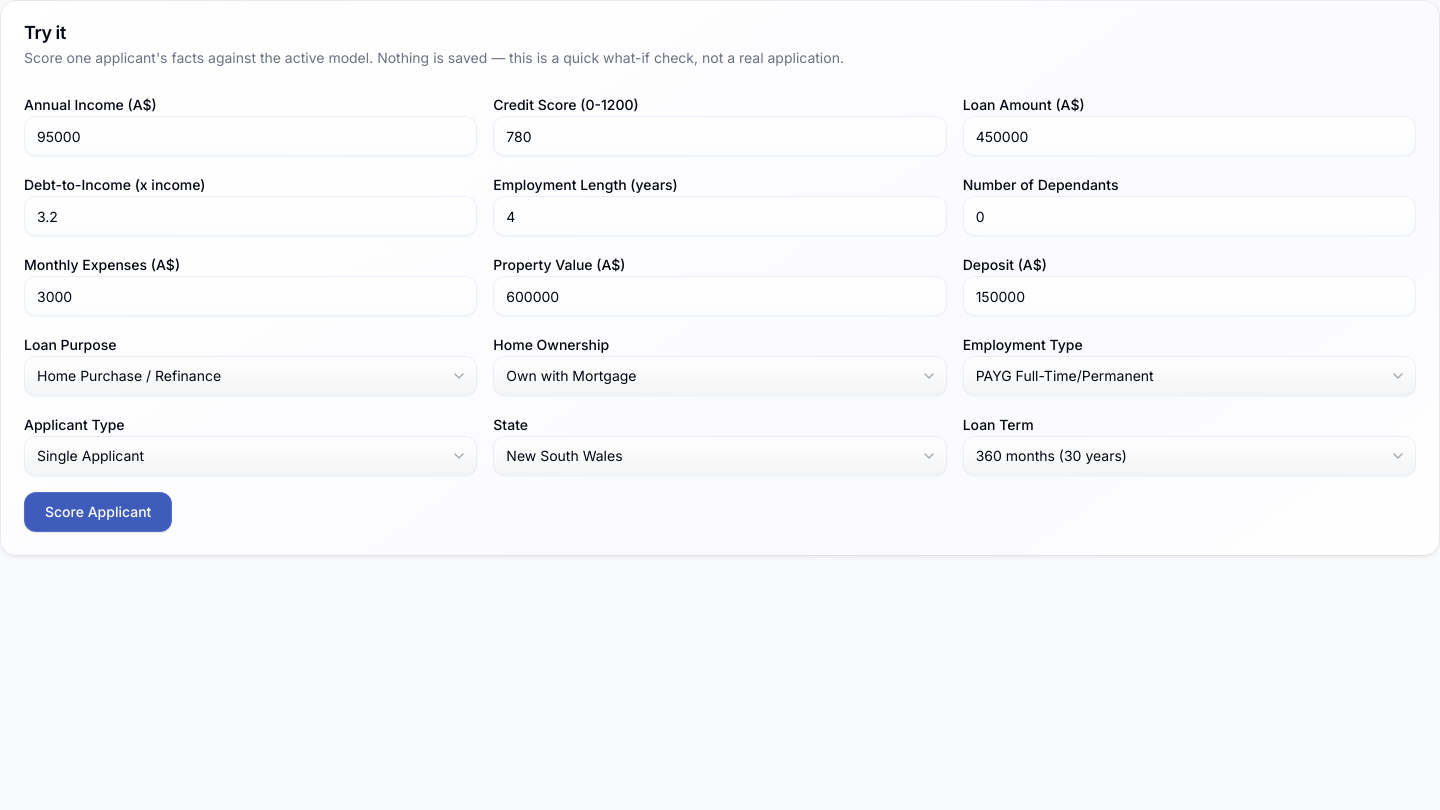
TryItTab › renders the 503 "no active model" message inline without crashing
Click the button "Score Applicant" at (98,512), box [24, 492, 172, 532]
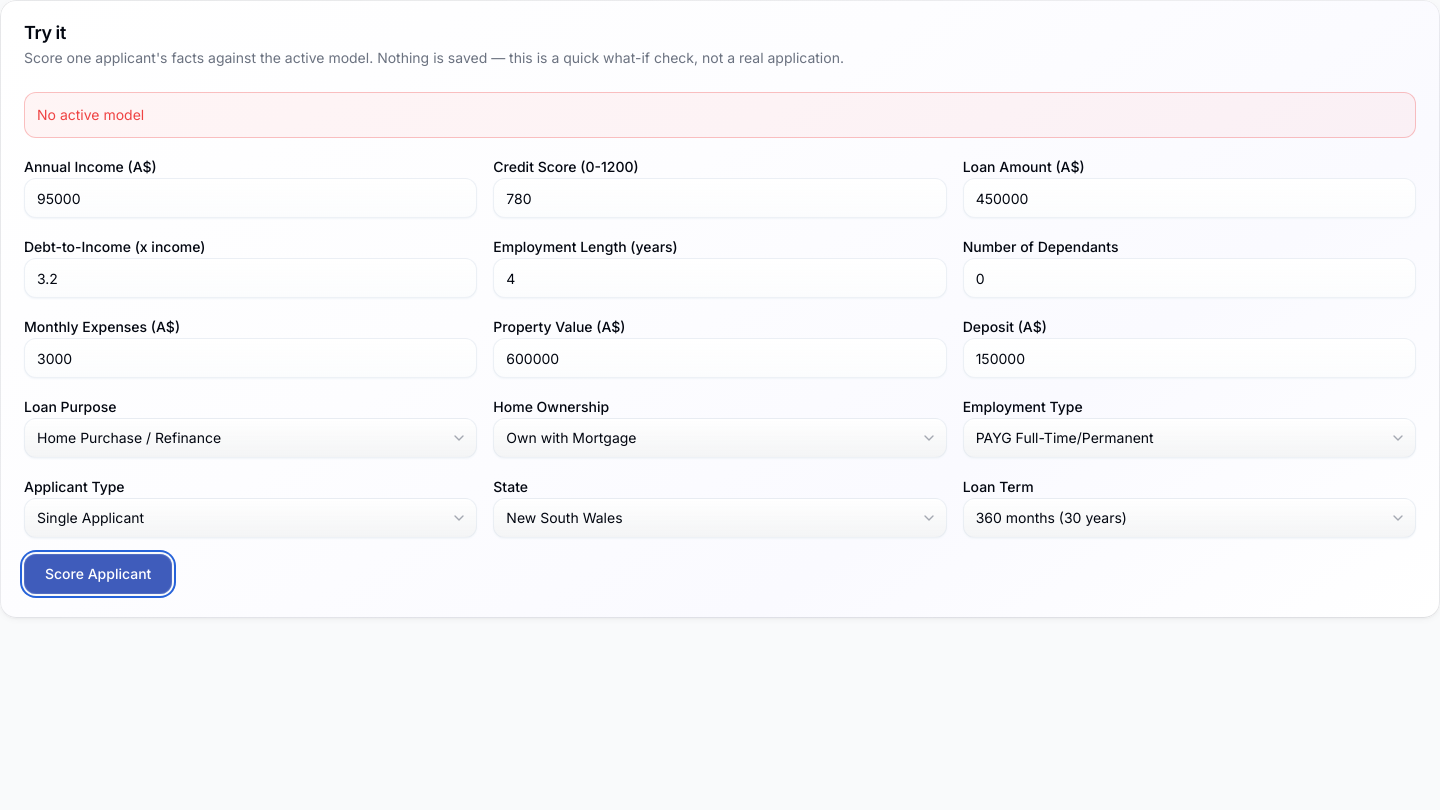
Expected: the text "No active model" is shown, [24, 92, 1416, 138]
